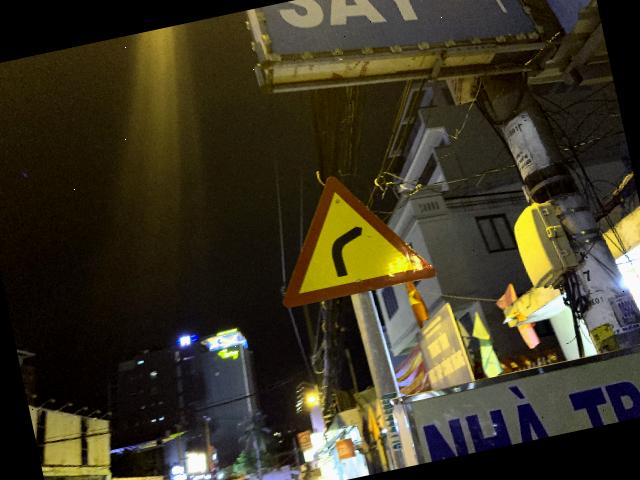cho-ngoat-nguy-hiem-ben-phai: (260, 158, 440, 310)
